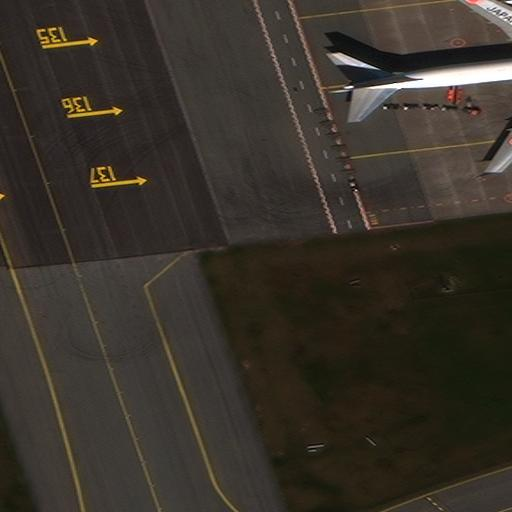Large Civil Transport: (331, 0, 512, 173)
